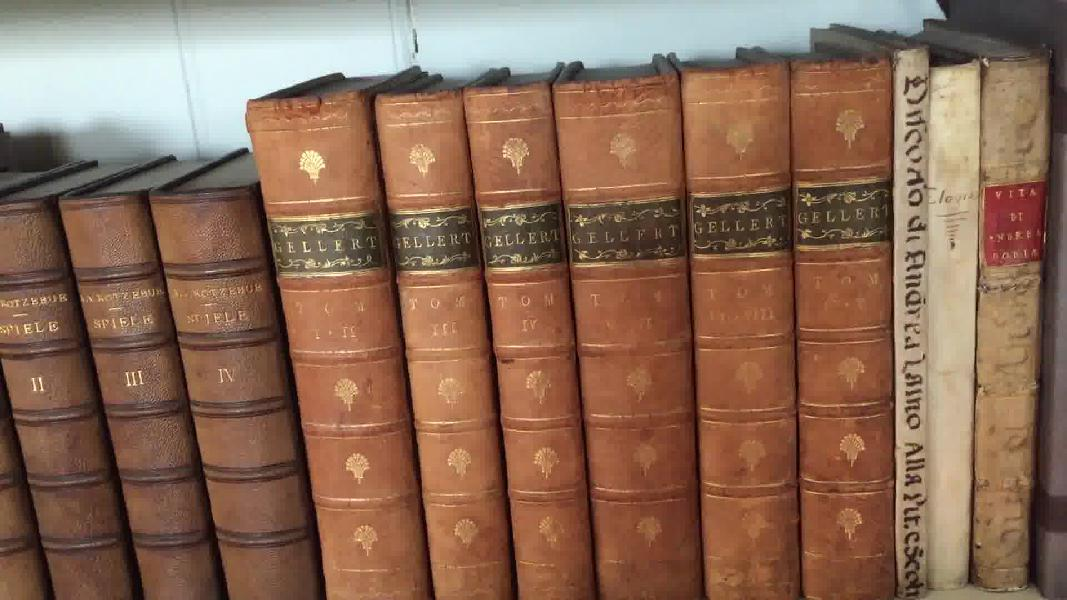Aa6-18_23: (209, 40, 892, 600)
Aa6-24: (885, 15, 931, 596)
Aa6-25: (925, 39, 982, 597)
Aa6-26: (963, 36, 1054, 597)
